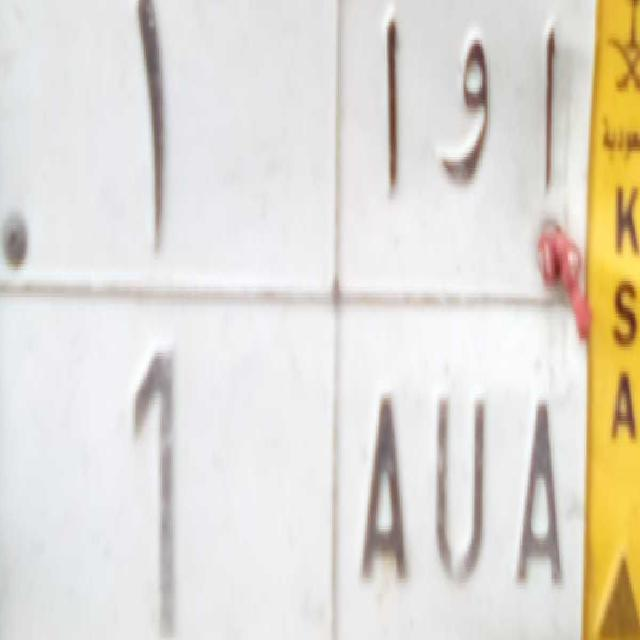license_plate: (1, 267, 584, 640)
